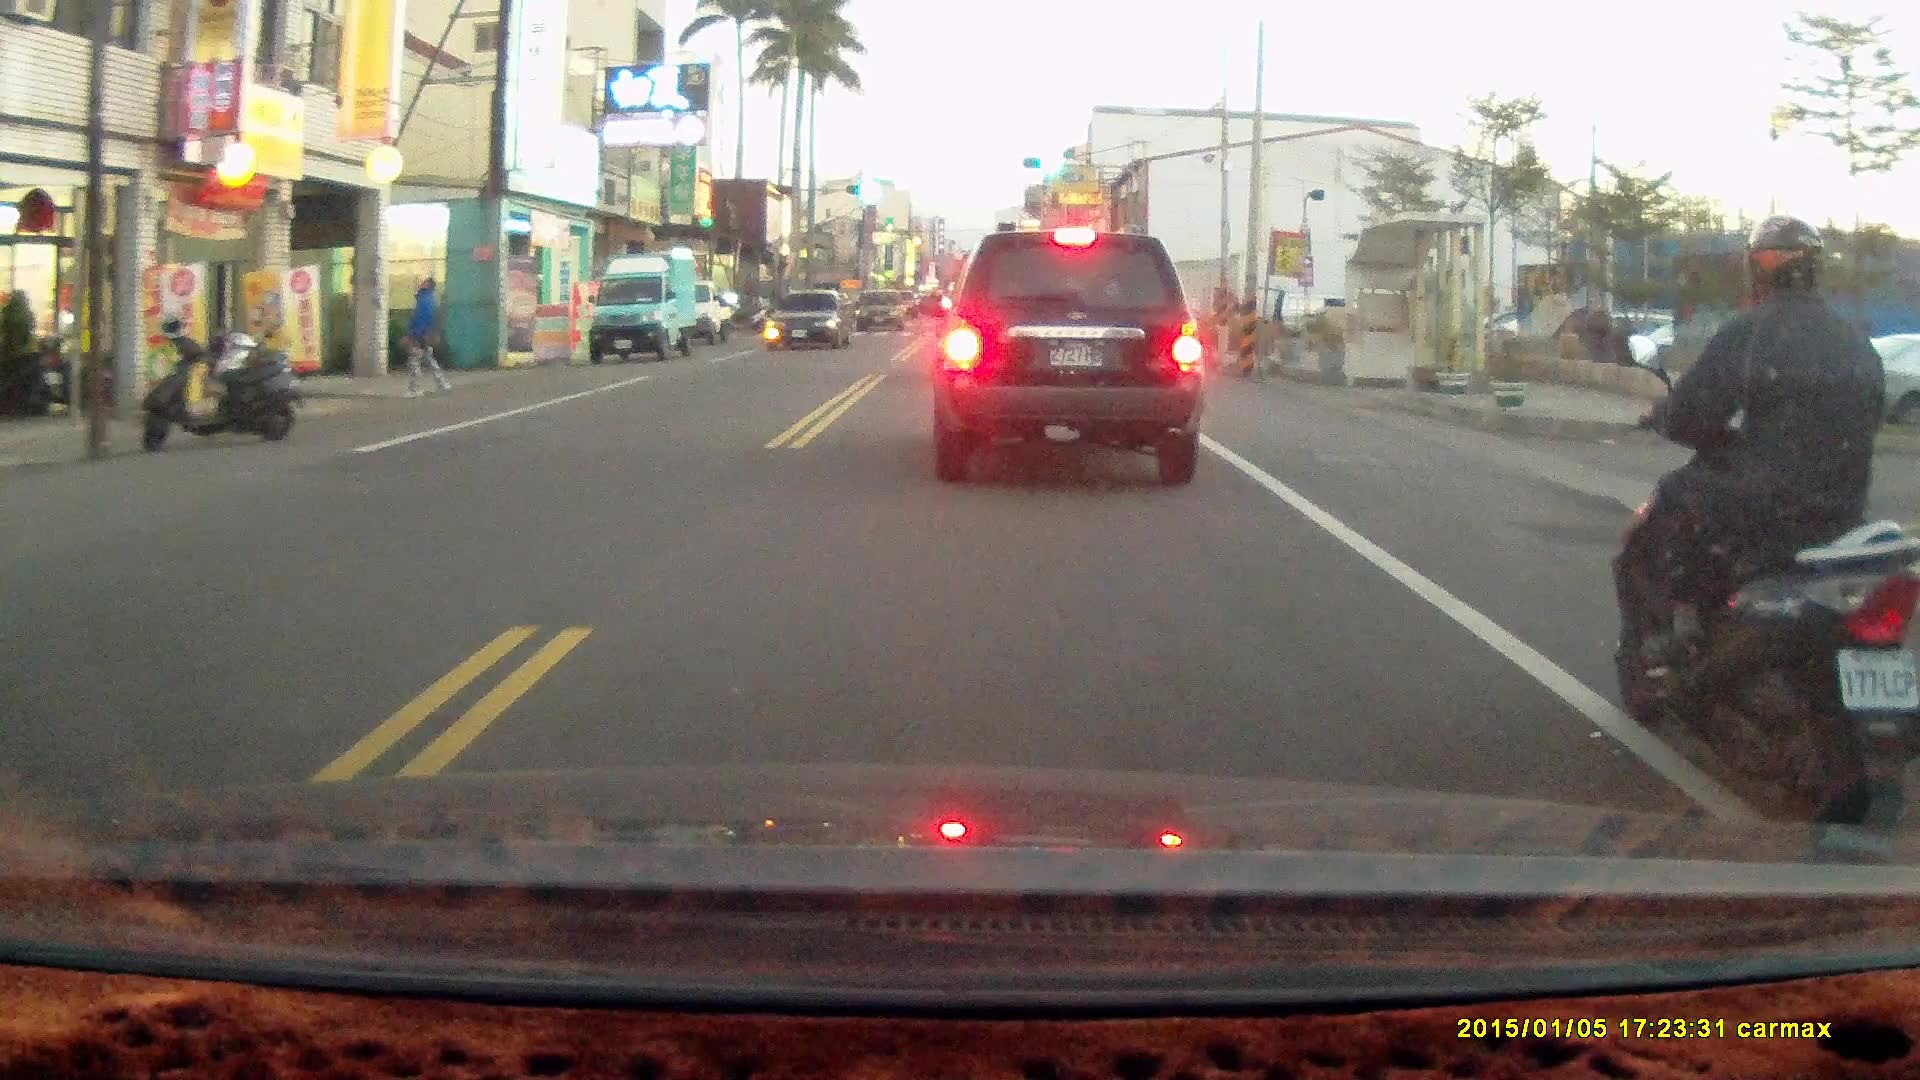pedestrian: (402, 274, 450, 402)
rider: (1613, 212, 1920, 834)
vehicle: (926, 229, 1208, 482), (583, 246, 703, 367), (766, 289, 859, 352), (856, 291, 908, 337)
